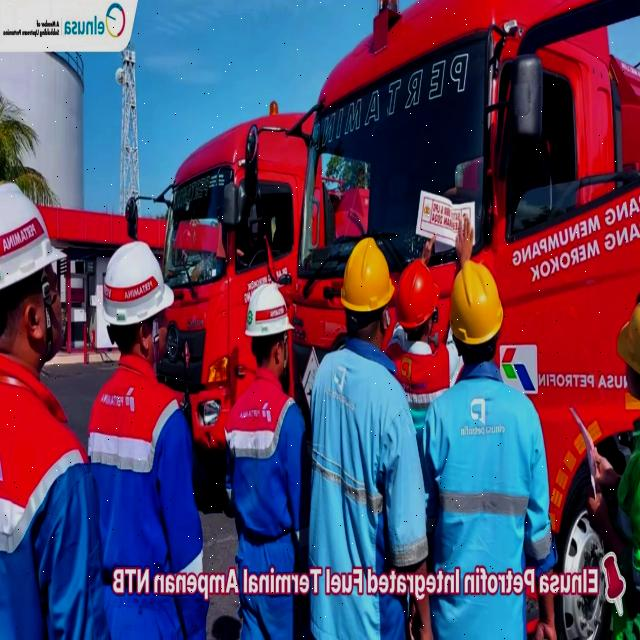Hardhat: (0, 180, 68, 280), (102, 246, 174, 324), (450, 260, 500, 334), (339, 244, 394, 307), (395, 261, 441, 330), (242, 283, 294, 336), (617, 297, 640, 382)
No Glove: (583, 492, 620, 556), (408, 593, 435, 640), (533, 595, 558, 640), (456, 216, 474, 261), (594, 453, 618, 485), (420, 238, 435, 260)
Overall Suit: (89, 352, 207, 640), (0, 351, 102, 640), (228, 366, 308, 640)
Strapped: (42, 269, 54, 355), (152, 314, 162, 359), (282, 331, 289, 371)
